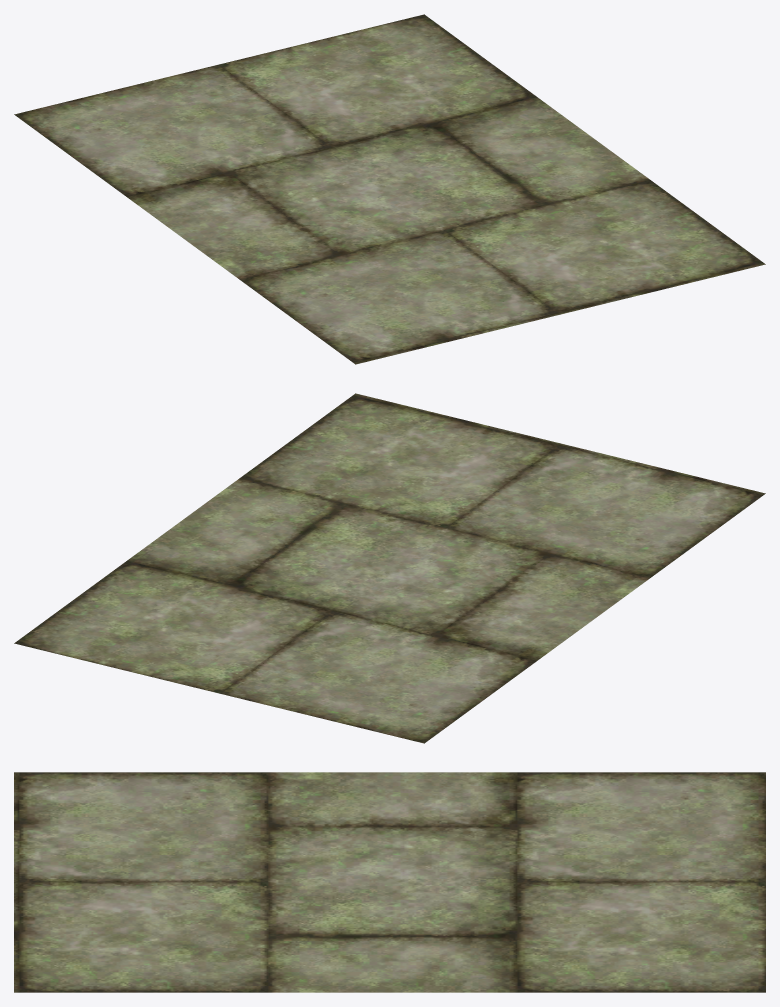
File: OVERHILL_A_01_LINE185.fbx
3 views of the same model, one above another, from view 1: azimuth 30°, elevation 25°; view 2: azimuth 150°, elevation 25°; view 3: azimuth 270°, elevation 25° (orthographic). The views are drawn at different scales.
Parts seen in each view (by area): view 1: OVERHILL_A_01_LINE185; view 2: OVERHILL_A_01_LINE185; view 3: OVERHILL_A_01_LINE185.
Part boxes in pixels (x1=…): OVERHILL_A_01_LINE185: x1=14, y1=14, x2=765, y2=364; OVERHILL_A_01_LINE185: x1=14, y1=393, x2=765, y2=743; OVERHILL_A_01_LINE185: x1=14, y1=772, x2=765, y2=992.
Bounding box in the file's own units: 34680 × 0.00815 × 50000.
Materials: 1 (1 with a texture image).
